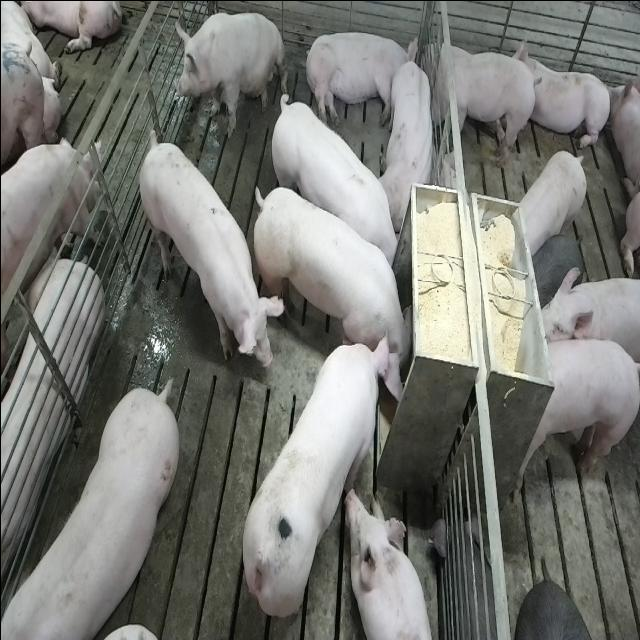Feeding: (240, 333, 390, 620), (254, 177, 421, 402)
Lateral_lying: (0, 254, 101, 606), (302, 28, 418, 127)
Sitting: (174, 8, 286, 138)
Standing: (0, 380, 176, 640), (134, 128, 278, 384), (264, 88, 398, 274), (0, 125, 103, 328), (516, 336, 638, 494), (422, 27, 538, 171), (531, 268, 637, 380), (515, 150, 588, 258)
Sternal_lying: (346, 487, 434, 640), (518, 37, 613, 154), (378, 55, 437, 228)
